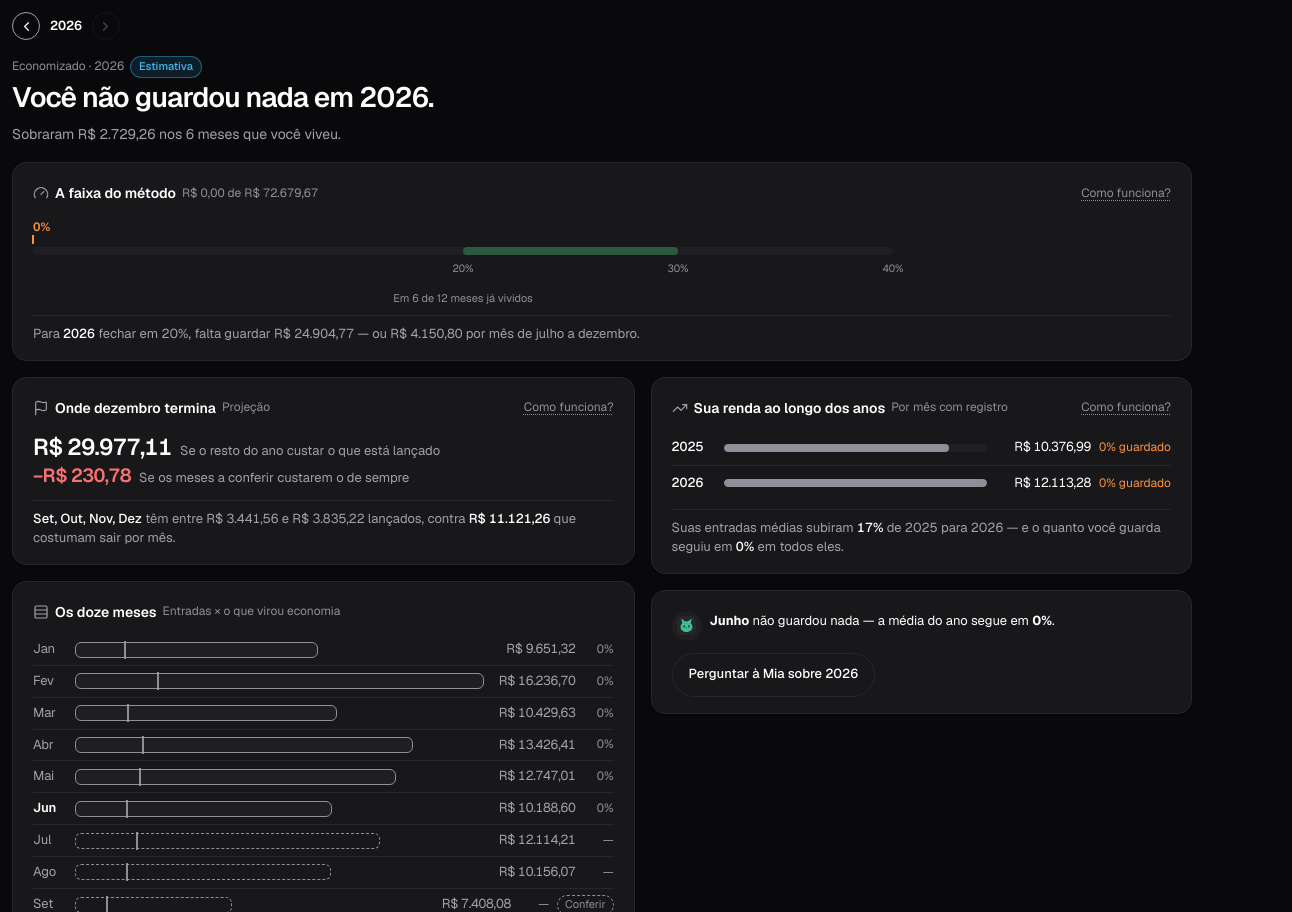
Scenario: AnnualScreen — direção Conversa com a Mia › renda ao longo dos anos: a cauda didática recolhe para o popover do card
The image size is (1292, 912).
Expected: the heading "Sua renda ao longo dos anos" is shown, [694,398,885,418]
Expected: the text "Suas entradas médias" is shown, [672,519,806,536]
Step 1. Click the button with aria-label "Como funciona? — Sua renda ao longo dos anos" → (1126, 408), box [1081,399,1171,417]
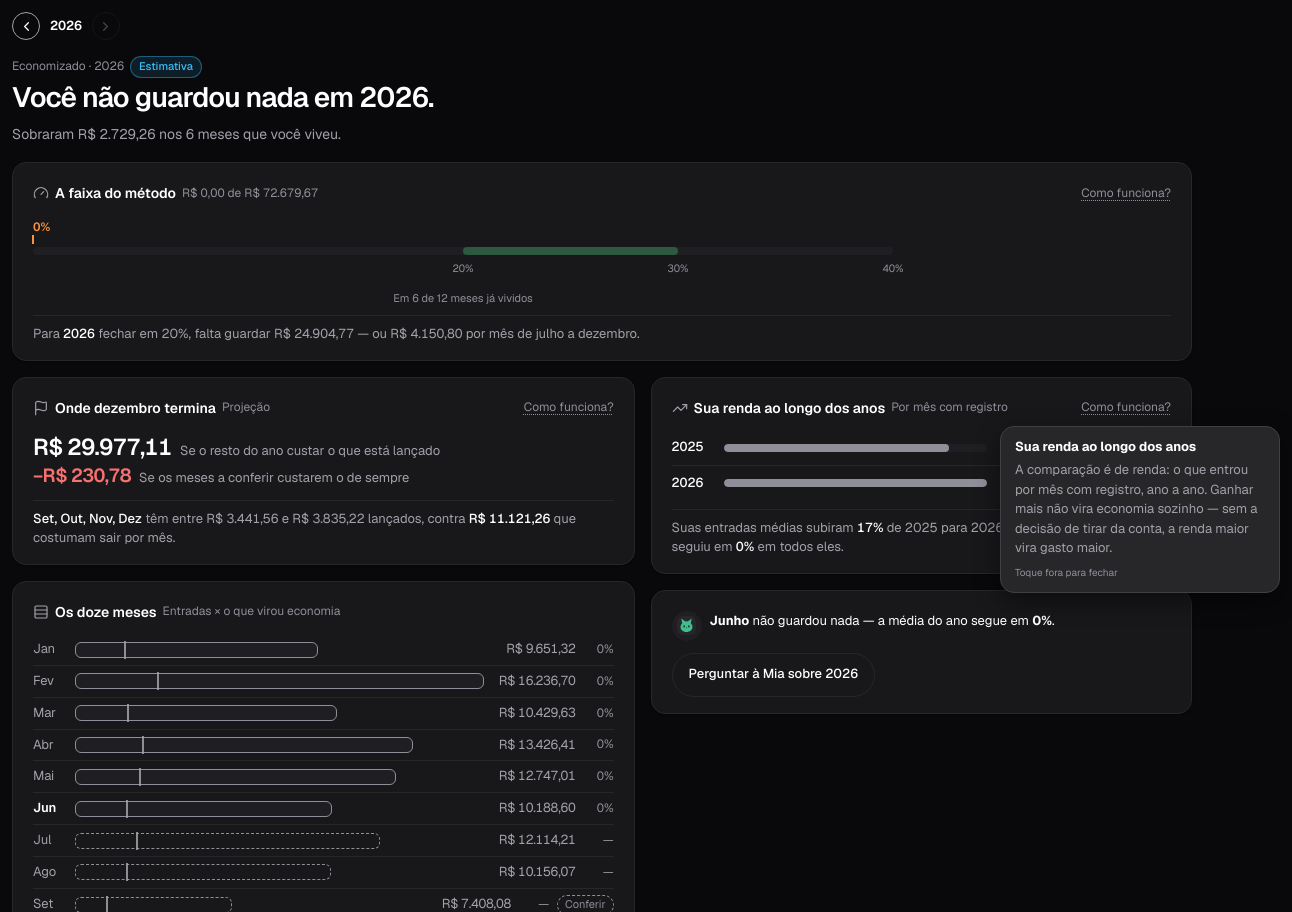
Now the tooltip shows "Ganhar mais não vira economia sozinho", box [1015,461,1258,556]
